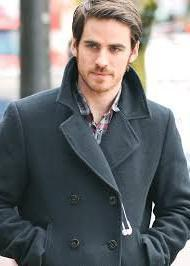Sober: (80, 19, 126, 88)
